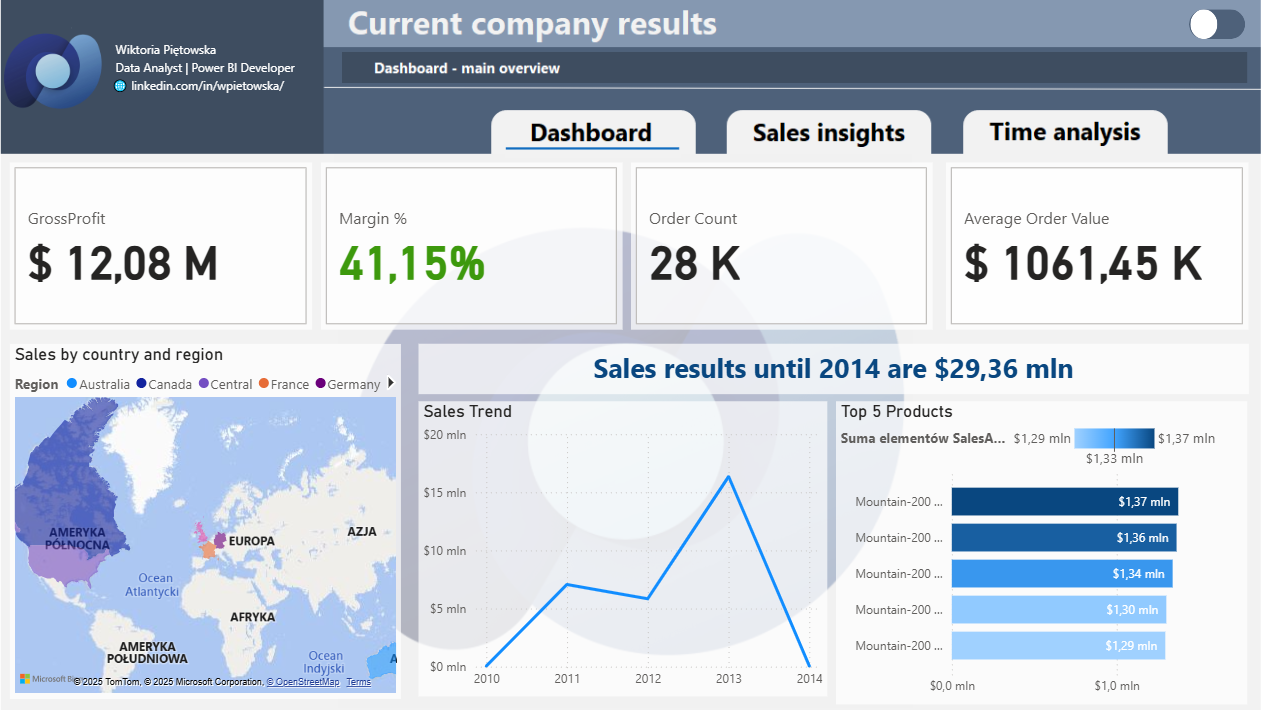

The dashboard page shown, as its layout file describes it:
{"tool":"powerbi","page":{"name":"Dashboard","canvas":[1280,720],"ordinal":0},"visuals":[{"type":"image","box":[0,0,1280,720],"z":0},{"type":"actionButton","box":[121.9,27.7,228,96.5],"z":1000},{"type":"image","title":"Company Logo","box":[12.7,22.7,108.2,107.3],"z":2000},{"type":"textbox","box":[120.9,22.7,228.2,96.4],"z":3000},{"type":"cardVisual","title":"Total sales","fields":{"Data":["#Miary.AvgOrderValue"]},"box":[958.8,167.5,302.5,167.5],"z":4000},{"type":"cardVisual","fields":{"Data":["Sum(vw_FactInternetSales_Denorm.GrossProfit)"]},"box":[12.5,167.5,302.5,167.5],"z":5000},{"type":"cardVisual","fields":{"Data":["#Miary.Margin%"]},"box":[326.2,167.5,301.2,167.5],"z":6000},{"type":"cardVisual","fields":{"Data":["#Miary.OrderCount"]},"box":[640,167.5,301.2,167.5],"z":7000},{"type":"lineChart","title":"Sales Trend","fields":{"Y":["Sum(vw_FactInternetSales_Denorm.SalesAmount)"],"Category":["vw_DimDate.CalendarYear"]},"box":[431.9,406.6,409,295.6],"z":8000},{"type":"barChart","title":"Top 5 Products","fields":{"Category":["vw_FactInternetSales_Denorm.ProductName"],"Y":["Sum(vw_FactInternetSales_Denorm.SalesAmount)"]},"box":[869,407,411,302],"z":9000},{"type":"filledMap","title":"Sales by country and region","fields":{"Series":["vw_DimSalesTerritory.Region"],"Category":["vw_DimSalesTerritory.Country"]},"box":[12.5,348.8,402.5,355],"z":10000},{"type":"card","fields":{"Values":["#Miary.Progress"]},"box":[431.2,348.8,830,50],"z":11000},{"type":"actionButton","box":[734.7,119.4,206.3,33.8],"z":12000},{"type":"actionButton","box":[972.4,119.4,206.3,33.8],"z":13000},{"type":"shape","title":"Filters","box":[1205,11.2,56.2,30],"z":14000},{"type":"shape","box":[1233.8,11.2,27.5,30],"z":15000},{"type":"actionButton","box":[1194.3,0,38.6,51.4],"z":17000},{"type":"actionButton","box":[1234.3,0,38.6,51.4],"z":18000},{"type":"group","id":"g1","title":"Group 1","box":[941.4,52.9,338.6,655.7],"z":19000}]}

Visuals, with their boxes in screenshot pixels (x1, y1, x2, y2), scaled from the page's 1280x720 canvas onto the 1261x710 screenshot:
image: {"x1": 0, "y1": 0, "x2": 1260, "y2": 709}
actionButton: {"x1": 120, "y1": 27, "x2": 345, "y2": 122}
"Company Logo" image: {"x1": 13, "y1": 22, "x2": 119, "y2": 128}
textbox: {"x1": 119, "y1": 22, "x2": 344, "y2": 117}
"Total sales" cardVisual: {"x1": 945, "y1": 165, "x2": 1243, "y2": 330}
cardVisual - Sum(vw_FactInternetSales_Denorm.GrossProfit): {"x1": 12, "y1": 165, "x2": 310, "y2": 330}
cardVisual - #Miary.Margin%: {"x1": 321, "y1": 165, "x2": 618, "y2": 330}
cardVisual - #Miary.OrderCount: {"x1": 630, "y1": 165, "x2": 927, "y2": 330}
"Sales Trend" lineChart: {"x1": 425, "y1": 401, "x2": 828, "y2": 692}
"Top 5 Products" barChart: {"x1": 856, "y1": 401, "x2": 1260, "y2": 699}
"Sales by country and region" filledMap: {"x1": 12, "y1": 344, "x2": 409, "y2": 694}
card - #Miary.Progress: {"x1": 425, "y1": 344, "x2": 1242, "y2": 393}
actionButton: {"x1": 724, "y1": 118, "x2": 927, "y2": 151}
actionButton: {"x1": 958, "y1": 118, "x2": 1161, "y2": 151}
"Filters" shape: {"x1": 1187, "y1": 11, "x2": 1242, "y2": 41}
shape: {"x1": 1215, "y1": 11, "x2": 1243, "y2": 41}
actionButton: {"x1": 1177, "y1": 0, "x2": 1215, "y2": 51}
actionButton: {"x1": 1216, "y1": 0, "x2": 1254, "y2": 51}
"Group 1" group: {"x1": 927, "y1": 52, "x2": 1260, "y2": 699}
